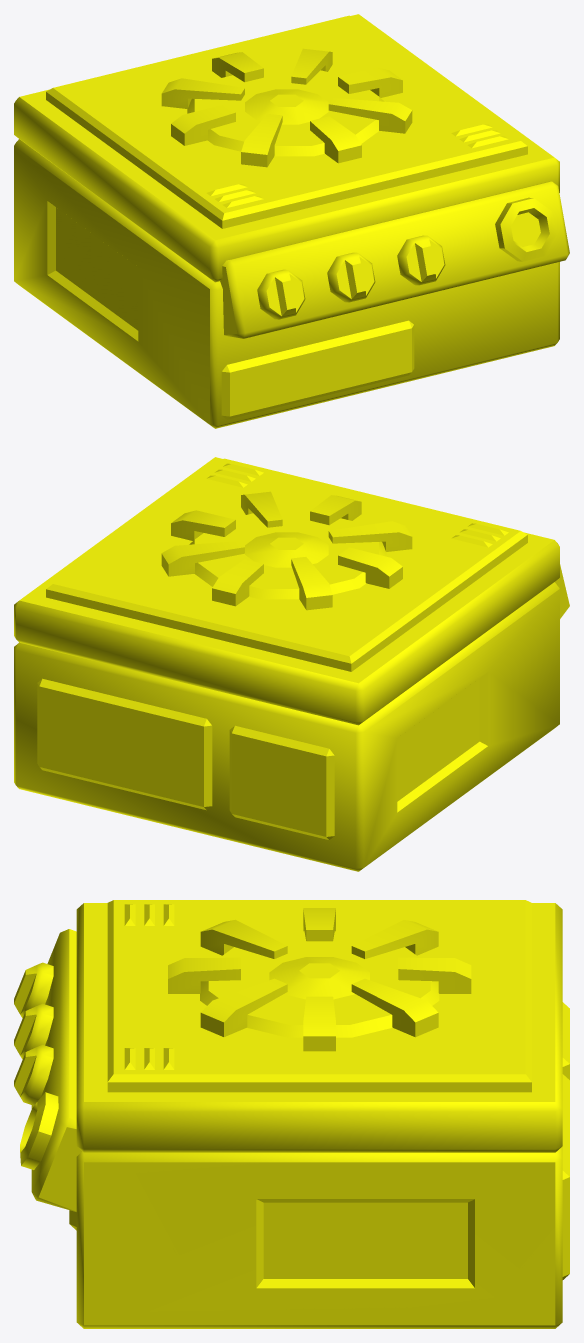
File: stove_single.gltf
3 views of the same model, one above another, from view 1: azimuth 30°, elevation 25°; view 2: azimuth 150°, elevation 25°; view 3: azimuth 270°, elevation 25° (orthographic). The views are drawn at different scales.
Visible parts, largest first — view 1: stove_single; view 2: stove_single; view 3: stove_single.
Part boxes in pixels (x1,y1,x2,y2): stove_single: (14,14,569,428); stove_single: (14,457,569,871); stove_single: (14,900,569,1328).
Size of the model in its own units: 2 by 1.21 by 2.29.
Materials: 1 (1 with a texture image).
